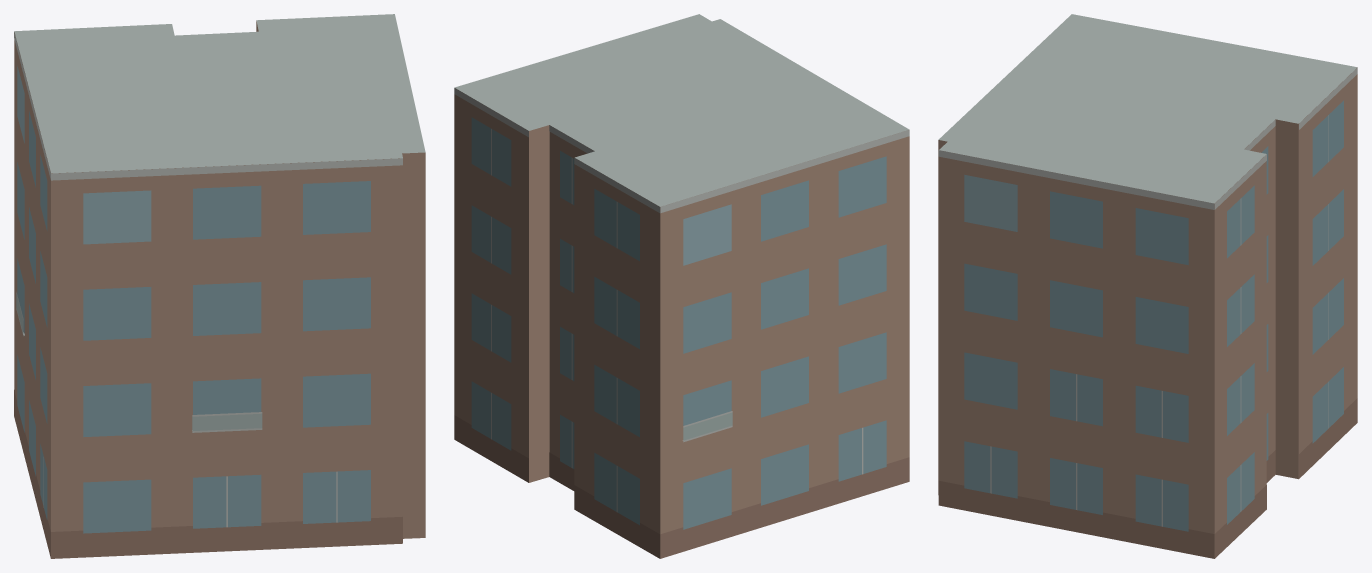
File: survey-upis-32656858.glb
3 renders of one model, left to right at view 1: azimuth 30°, elevation 25°; view 2: azimuth 150°, elevation 25°; view 3: azimuth 270°, elevation 25°, orthographic. The views are drawn at different scales.
Visible parts, largest first — view 1: survey-upis-32656858.tmp; view 2: survey-upis-32656858.tmp; view 3: survey-upis-32656858.tmp.
Boxes of the visible parts, x1=… form: survey-upis-32656858.tmp: x1=14, y1=14, x2=425, y2=558; survey-upis-32656858.tmp: x1=454, y1=14, x2=909, y2=558; survey-upis-32656858.tmp: x1=938, y1=14, x2=1357, y2=558.
Bounding box in the file's own units: 15.11 × 13.2 × 14.13.
